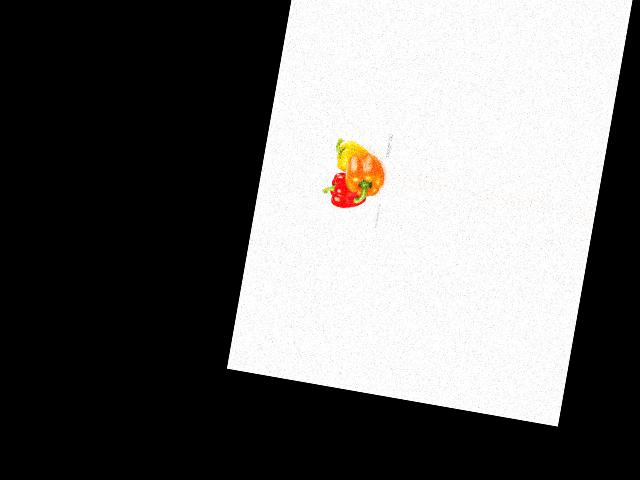bell_pepper: (329, 135, 372, 176)
